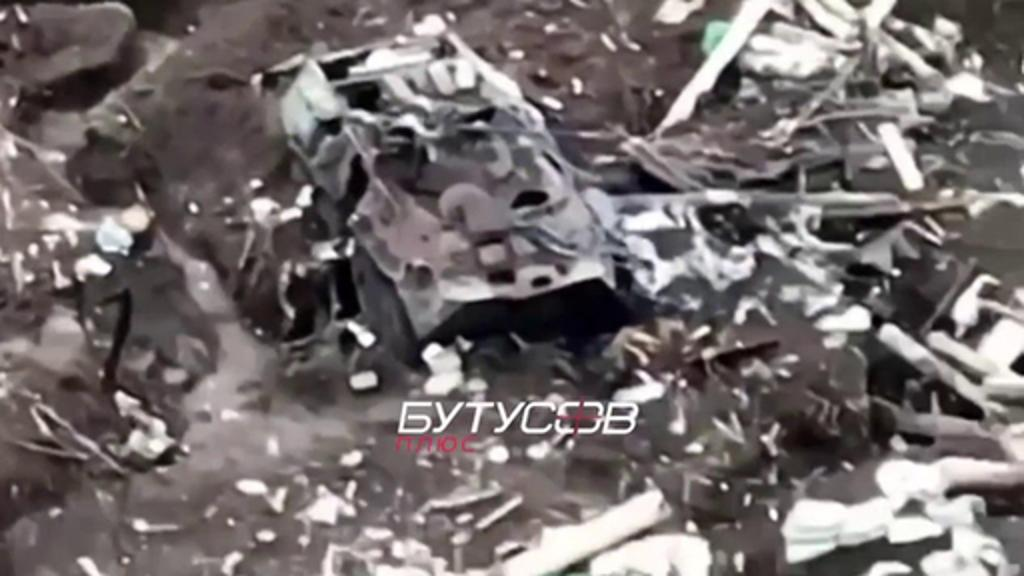APC-IFV: (246, 30, 642, 366)
